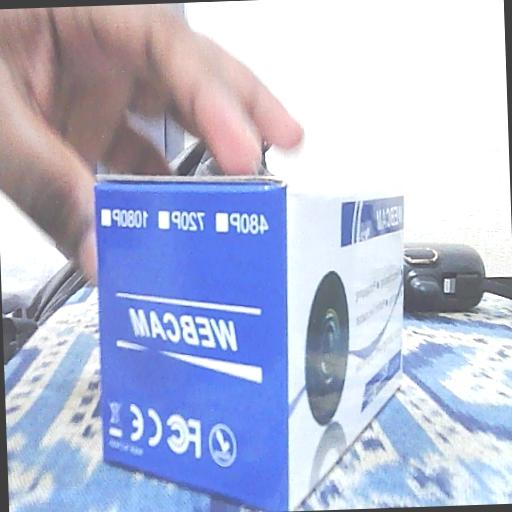webcam_box: (90, 162, 413, 512)
